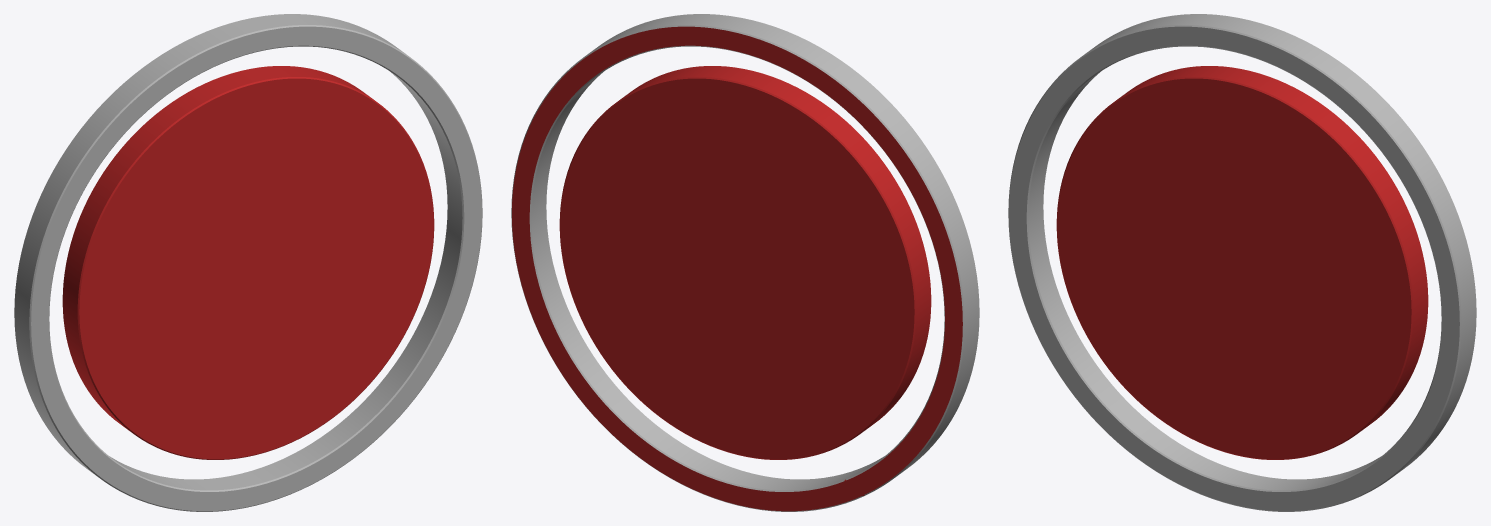
Rendered from TimelineElement_Recording.dae.
The picture shows the model from 3 angles, left to right: view 1: azimuth 30°, elevation 25°; view 2: azimuth 150°, elevation 25°; view 3: azimuth 330°, elevation 25°; orthographic projection.
Parts seen in each view (by area): view 1: recording_2x; view 2: recording_2x; view 3: recording_2x.
Boxes of the visible parts, box(x1,y1,x2,y2) form: recording_2x: box(14, 14, 482, 511); recording_2x: box(511, 14, 979, 511); recording_2x: box(1008, 14, 1476, 511).
Bounding box in the file's own units: 0.8043 × 0.05 × 0.8043.
